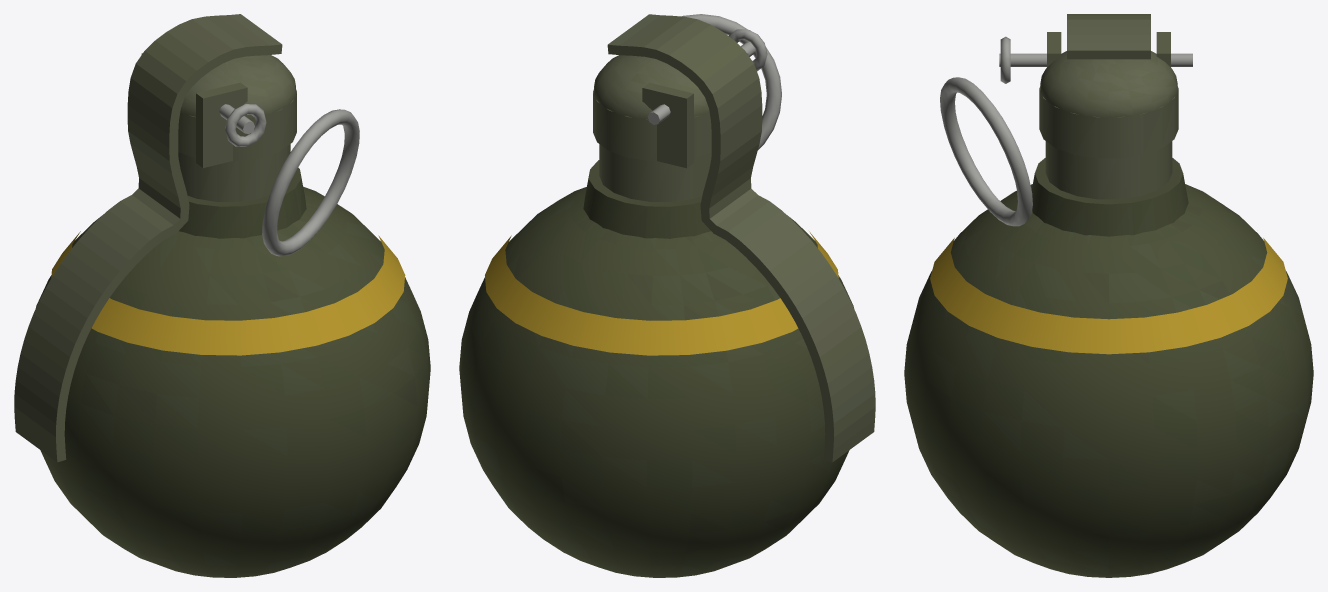
File: grenade.glb
The picture shows the model from 3 angles, left to right: view 1: azimuth 30°, elevation 25°; view 2: azimuth 150°, elevation 25°; view 3: azimuth 270°, elevation 25°; orthographic projection.
Parts seen in each view (by area): view 1: m67_body, m67_spoon, m67_fuze, m67_band, m67_pin; view 2: m67_body, m67_spoon, m67_fuze, m67_band, m67_pin; view 3: m67_body, m67_fuze, m67_band, m67_pin, m67_spoon.
Part boxes in pixels (x1,y1,x2,y2): m67_body: (36, 186, 430, 577); m67_spoon: (14, 14, 282, 462); m67_fuze: (141, 53, 306, 238); m67_band: (51, 231, 405, 355); m67_pin: (219, 104, 359, 256); m67_body: (459, 187, 853, 577); m67_spoon: (607, 14, 875, 462); m67_fuze: (583, 53, 748, 238); m67_band: (485, 231, 838, 355); m67_pin: (647, 14, 781, 149); m67_body: (904, 184, 1313, 577); m67_fuze: (1031, 32, 1188, 236); m67_band: (930, 238, 1287, 354); m67_pin: (940, 36, 1192, 226); m67_spoon: (1067, 14, 1150, 59).
Bounding box in the file's own units: 0.0665 × 0.091 × 0.0635.
